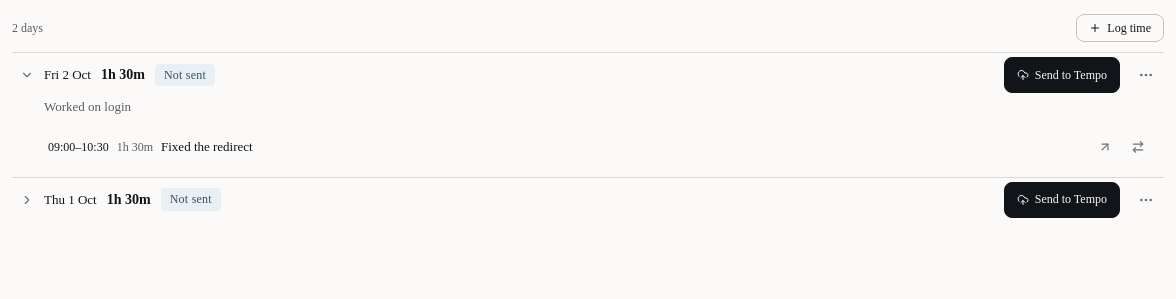
Test: disclosure › clicking a row opens or folds it, and its neighbours stay as they were
The image size is (1176, 299).
Click the button with class "task-day-toggle" showing "Thu 1 Oct 1h 30m Not sent".
click(70, 199)  # box left=12, top=178, right=996, bottom=222
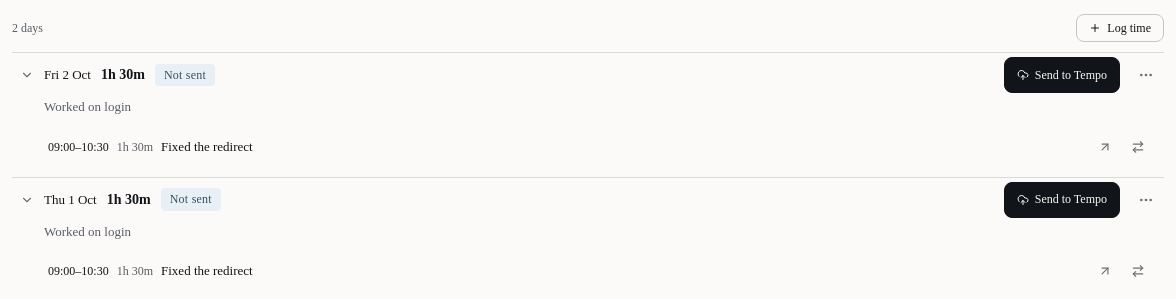
Now the button with class "task-day-toggle" is expanded, box left=12, top=178, right=996, bottom=222
Click the button with class "task-day-toggle" showing "Fri 2 Oct 1h 30m Not sent".
click(67, 74)  # box left=12, top=53, right=996, bottom=97
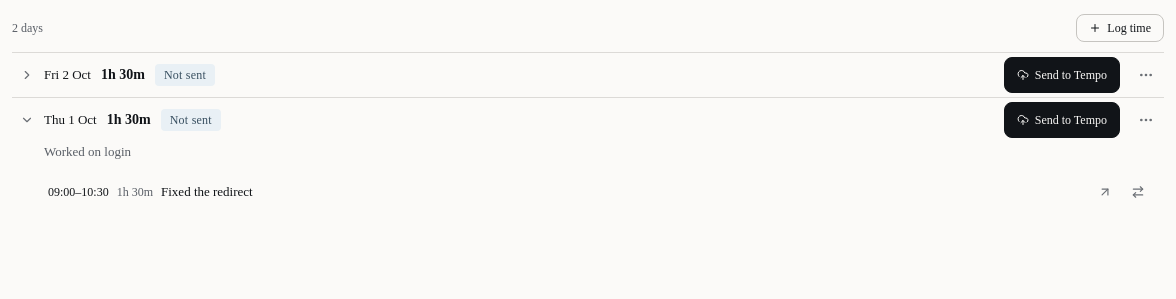
Now the button with class "task-day-toggle" is collapsed, box left=12, top=53, right=996, bottom=97
